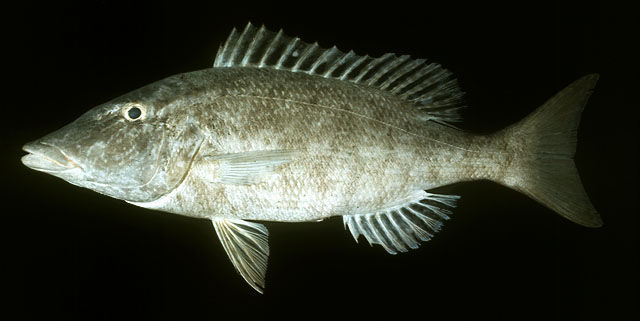fish: (20, 22, 604, 296)
